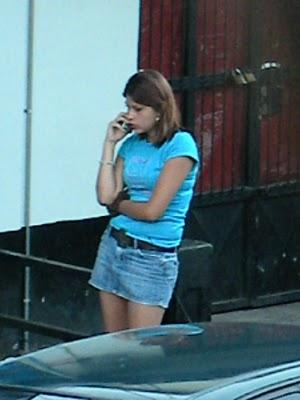person: (89, 71, 199, 338)
